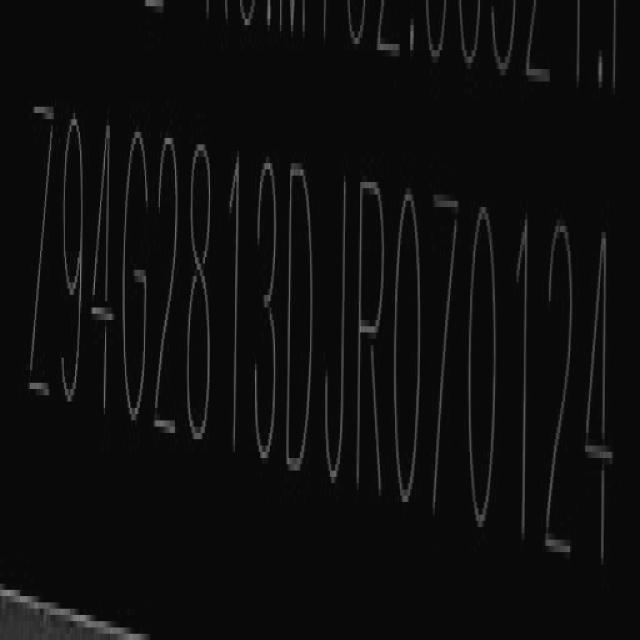0: (468, 195, 498, 551), (390, 186, 423, 507)
1: (511, 216, 534, 556), (225, 144, 247, 470)
2: (543, 202, 574, 560), (153, 125, 183, 465)
3: (251, 156, 280, 464)
4: (582, 216, 616, 563), (88, 114, 118, 423)
7: (429, 168, 462, 540)
8: (185, 137, 214, 463)
9: (59, 107, 86, 416)
D: (287, 156, 317, 478)
G: (120, 128, 152, 434)
J: (323, 174, 349, 490)
R: (354, 167, 386, 516)
Z: (28, 81, 56, 416)
